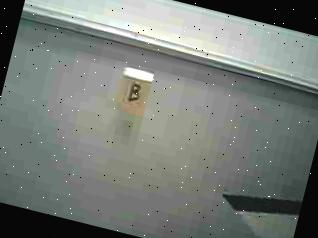Bottle B: (105, 58, 167, 128)
